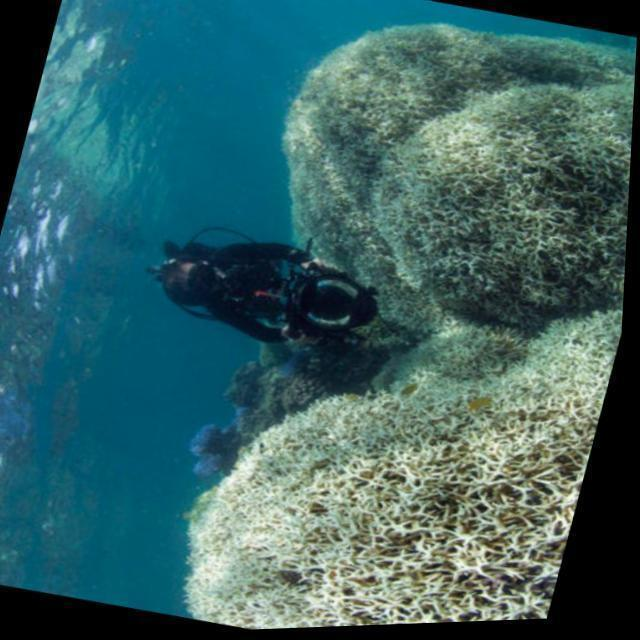Dead Coral: (314, 0, 640, 294)
